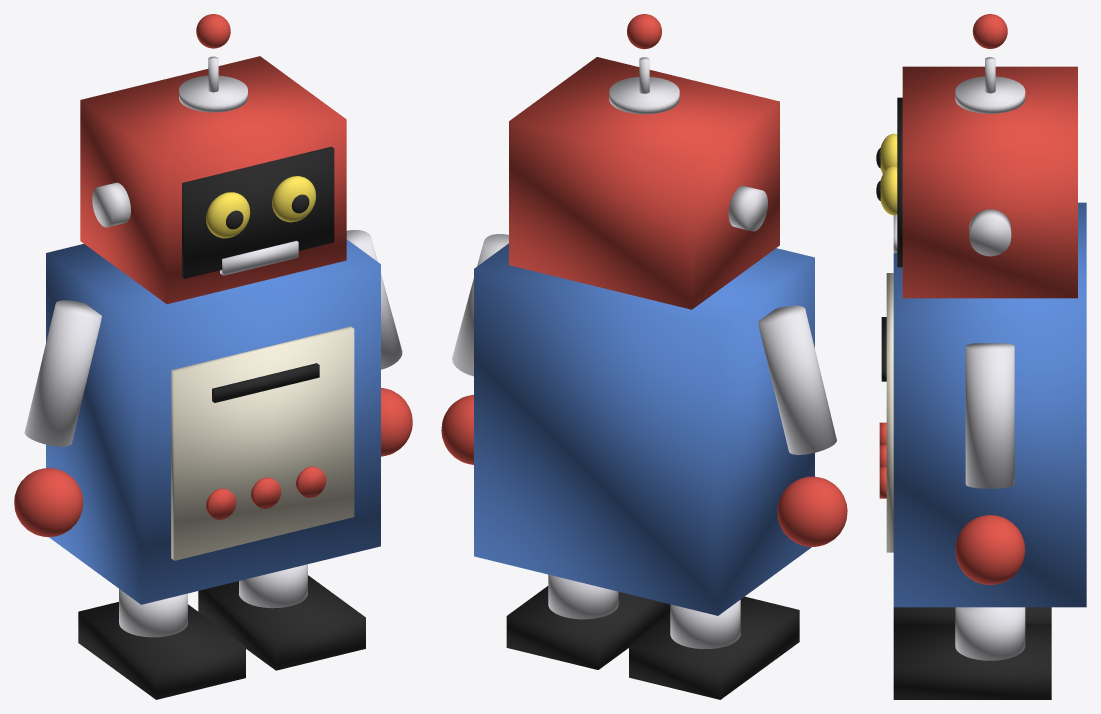
The model's file is robie.glb.
The picture shows the model from 3 angles, left to right: view 1: azimuth 30°, elevation 25°; view 2: azimuth 150°, elevation 25°; view 3: azimuth 270°, elevation 25°; orthographic projection.
Visible parts, largest first — view 1: Cube, Cube.003, Cube.001, Cube.004, Cube.006, Cube.007, Cylinder.004, Sphere.004, Cylinder.005, Cylinder.008, Cylinder.010, Sphere.005 (+10 smaller); view 2: Cube, Cube.003, Cube.006, Cube.007, Cylinder.004, Sphere.004, Cylinder.005, Cylinder.008, Cylinder.010, Sphere.005, Cylinder.007, Cylinder.003 (+1 smaller); view 3: Cube, Cube.003, Cube.007, Cylinder.007, Sphere.005, Cylinder.008, Cube.001, Cylinder.010, Cylinder.006, Cube.006, Cube.004, Sphere.006 (+4 smaller).
Part boxes in pixels (left/top/right/bottom): Cube: left=46, top=239, right=380, bottom=604; Cube.003: left=80, top=56, right=346, bottom=304; Cube.001: left=171, top=326, right=354, bottom=560; Cube.004: left=182, top=146, right=334, bottom=278; Cube.006: left=78, top=602, right=245, bottom=699; Cube.007: left=198, top=575, right=365, bottom=670; Cylinder.004: left=24, top=300, right=101, bottom=446; Sphere.004: left=14, top=468, right=83, bottom=537; Cylinder.005: left=119, top=589, right=187, bottom=637; Cylinder.008: left=239, top=564, right=307, bottom=608; Cylinder.010: left=179, top=75, right=247, bottom=112; Sphere.005: left=381, top=387, right=412, bottom=456; Cube: left=474, top=243, right=814, bottom=615; Cube.003: left=509, top=57, right=779, bottom=309; Cube.006: left=629, top=596, right=799, bottom=699; Cube.007: left=506, top=586, right=670, bottom=669; Cylinder.004: left=758, top=305, right=836, bottom=454; Sphere.004: left=777, top=476, right=847, bottom=546; Cylinder.005: left=670, top=600, right=740, bottom=648; Cylinder.008: left=548, top=574, right=618, bottom=619; Cylinder.010: left=609, top=77, right=679, bottom=114; Sphere.005: left=441, top=395, right=473, bottom=464; Cylinder.007: left=452, top=234, right=508, bottom=376; Cylinder.003: left=728, top=186, right=767, bottom=231; Cube: left=893, top=202, right=1086, bottom=607; Cube.003: left=902, top=66, right=1077, bottom=298; Cube.007: left=893, top=623, right=1051, bottom=699; Cylinder.007: left=965, top=343, right=1014, bottom=488; Sphere.005: left=955, top=515, right=1025, bottom=584; Cylinder.008: left=955, top=607, right=1025, bottom=660; Cube.001: left=886, top=273, right=893, bottom=552; Cylinder.010: left=955, top=76, right=1025, bottom=113; Cylinder.006: left=969, top=209, right=1011, bottom=256; Cube.006: left=893, top=607, right=1051, bottom=623; Cube.004: left=897, top=97, right=902, bottom=267; Sphere.006: left=972, top=14, right=1007, bottom=48.
Size of what is drawn, in the model's own units: 2.6 by 3.98 by 1.2.
